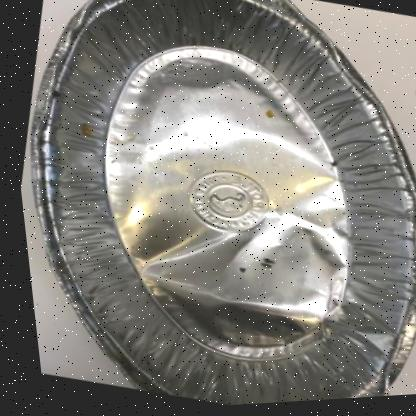Metal: (28, 0, 416, 407)
